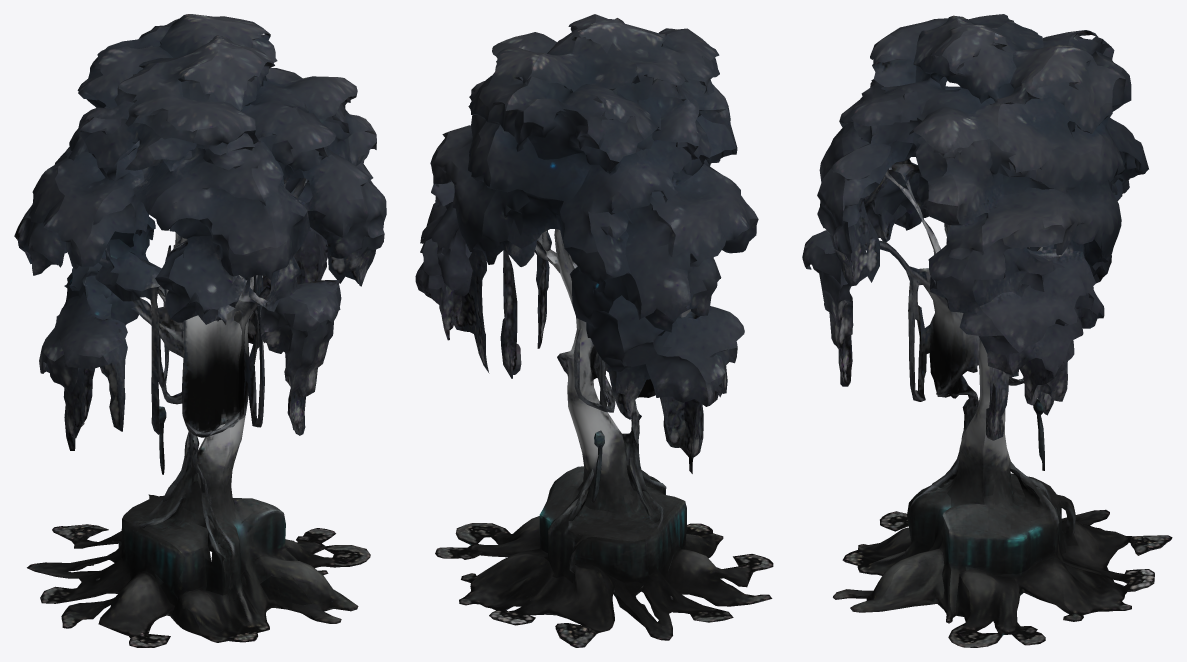
Rendered from Wood_xz.glb.
The picture shows the model from 3 angles, left to right: view 1: azimuth 30°, elevation 25°; view 2: azimuth 150°, elevation 25°; view 3: azimuth 270°, elevation 25°; orthographic projection.
Visible parts, largest first — view 1: world; view 2: world; view 3: world.
Boxes of the visible parts, x1=… form: world: x1=14, y1=14, x2=386, y2=647; world: x1=415, y1=14, x2=773, y2=647; world: x1=802, y1=14, x2=1172, y2=647.
Size of the model in its own units: 0.6119 by 0.9769 by 0.5959.
1 material, 1 textured.
